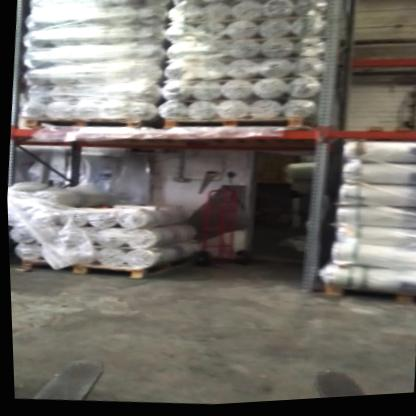vertical_damage: (294, 257, 334, 301)
